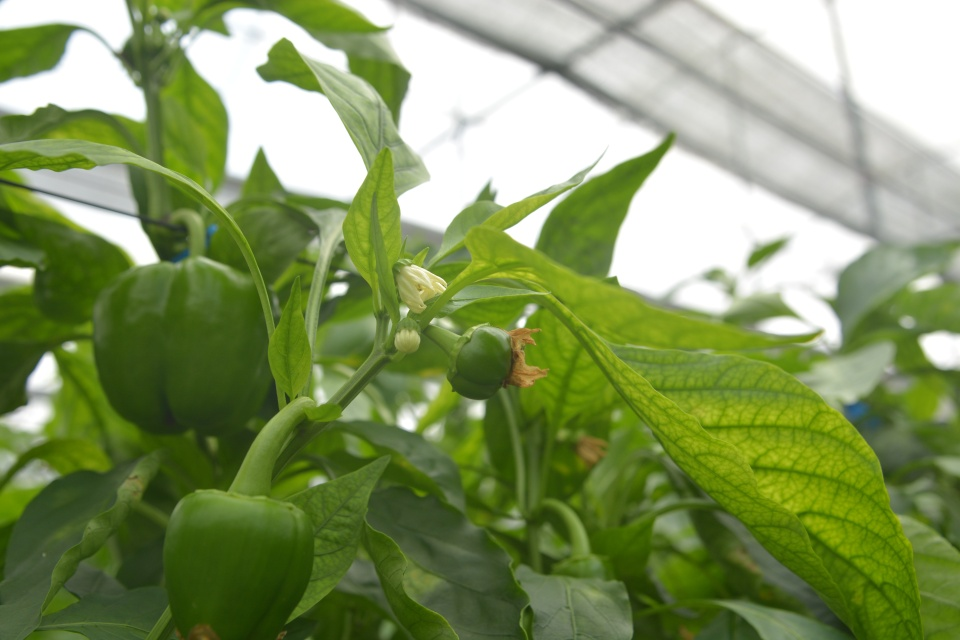flower: (393, 257, 448, 315)
fruit: (90, 252, 282, 441)
immature: (160, 483, 317, 640), (443, 319, 551, 406)
